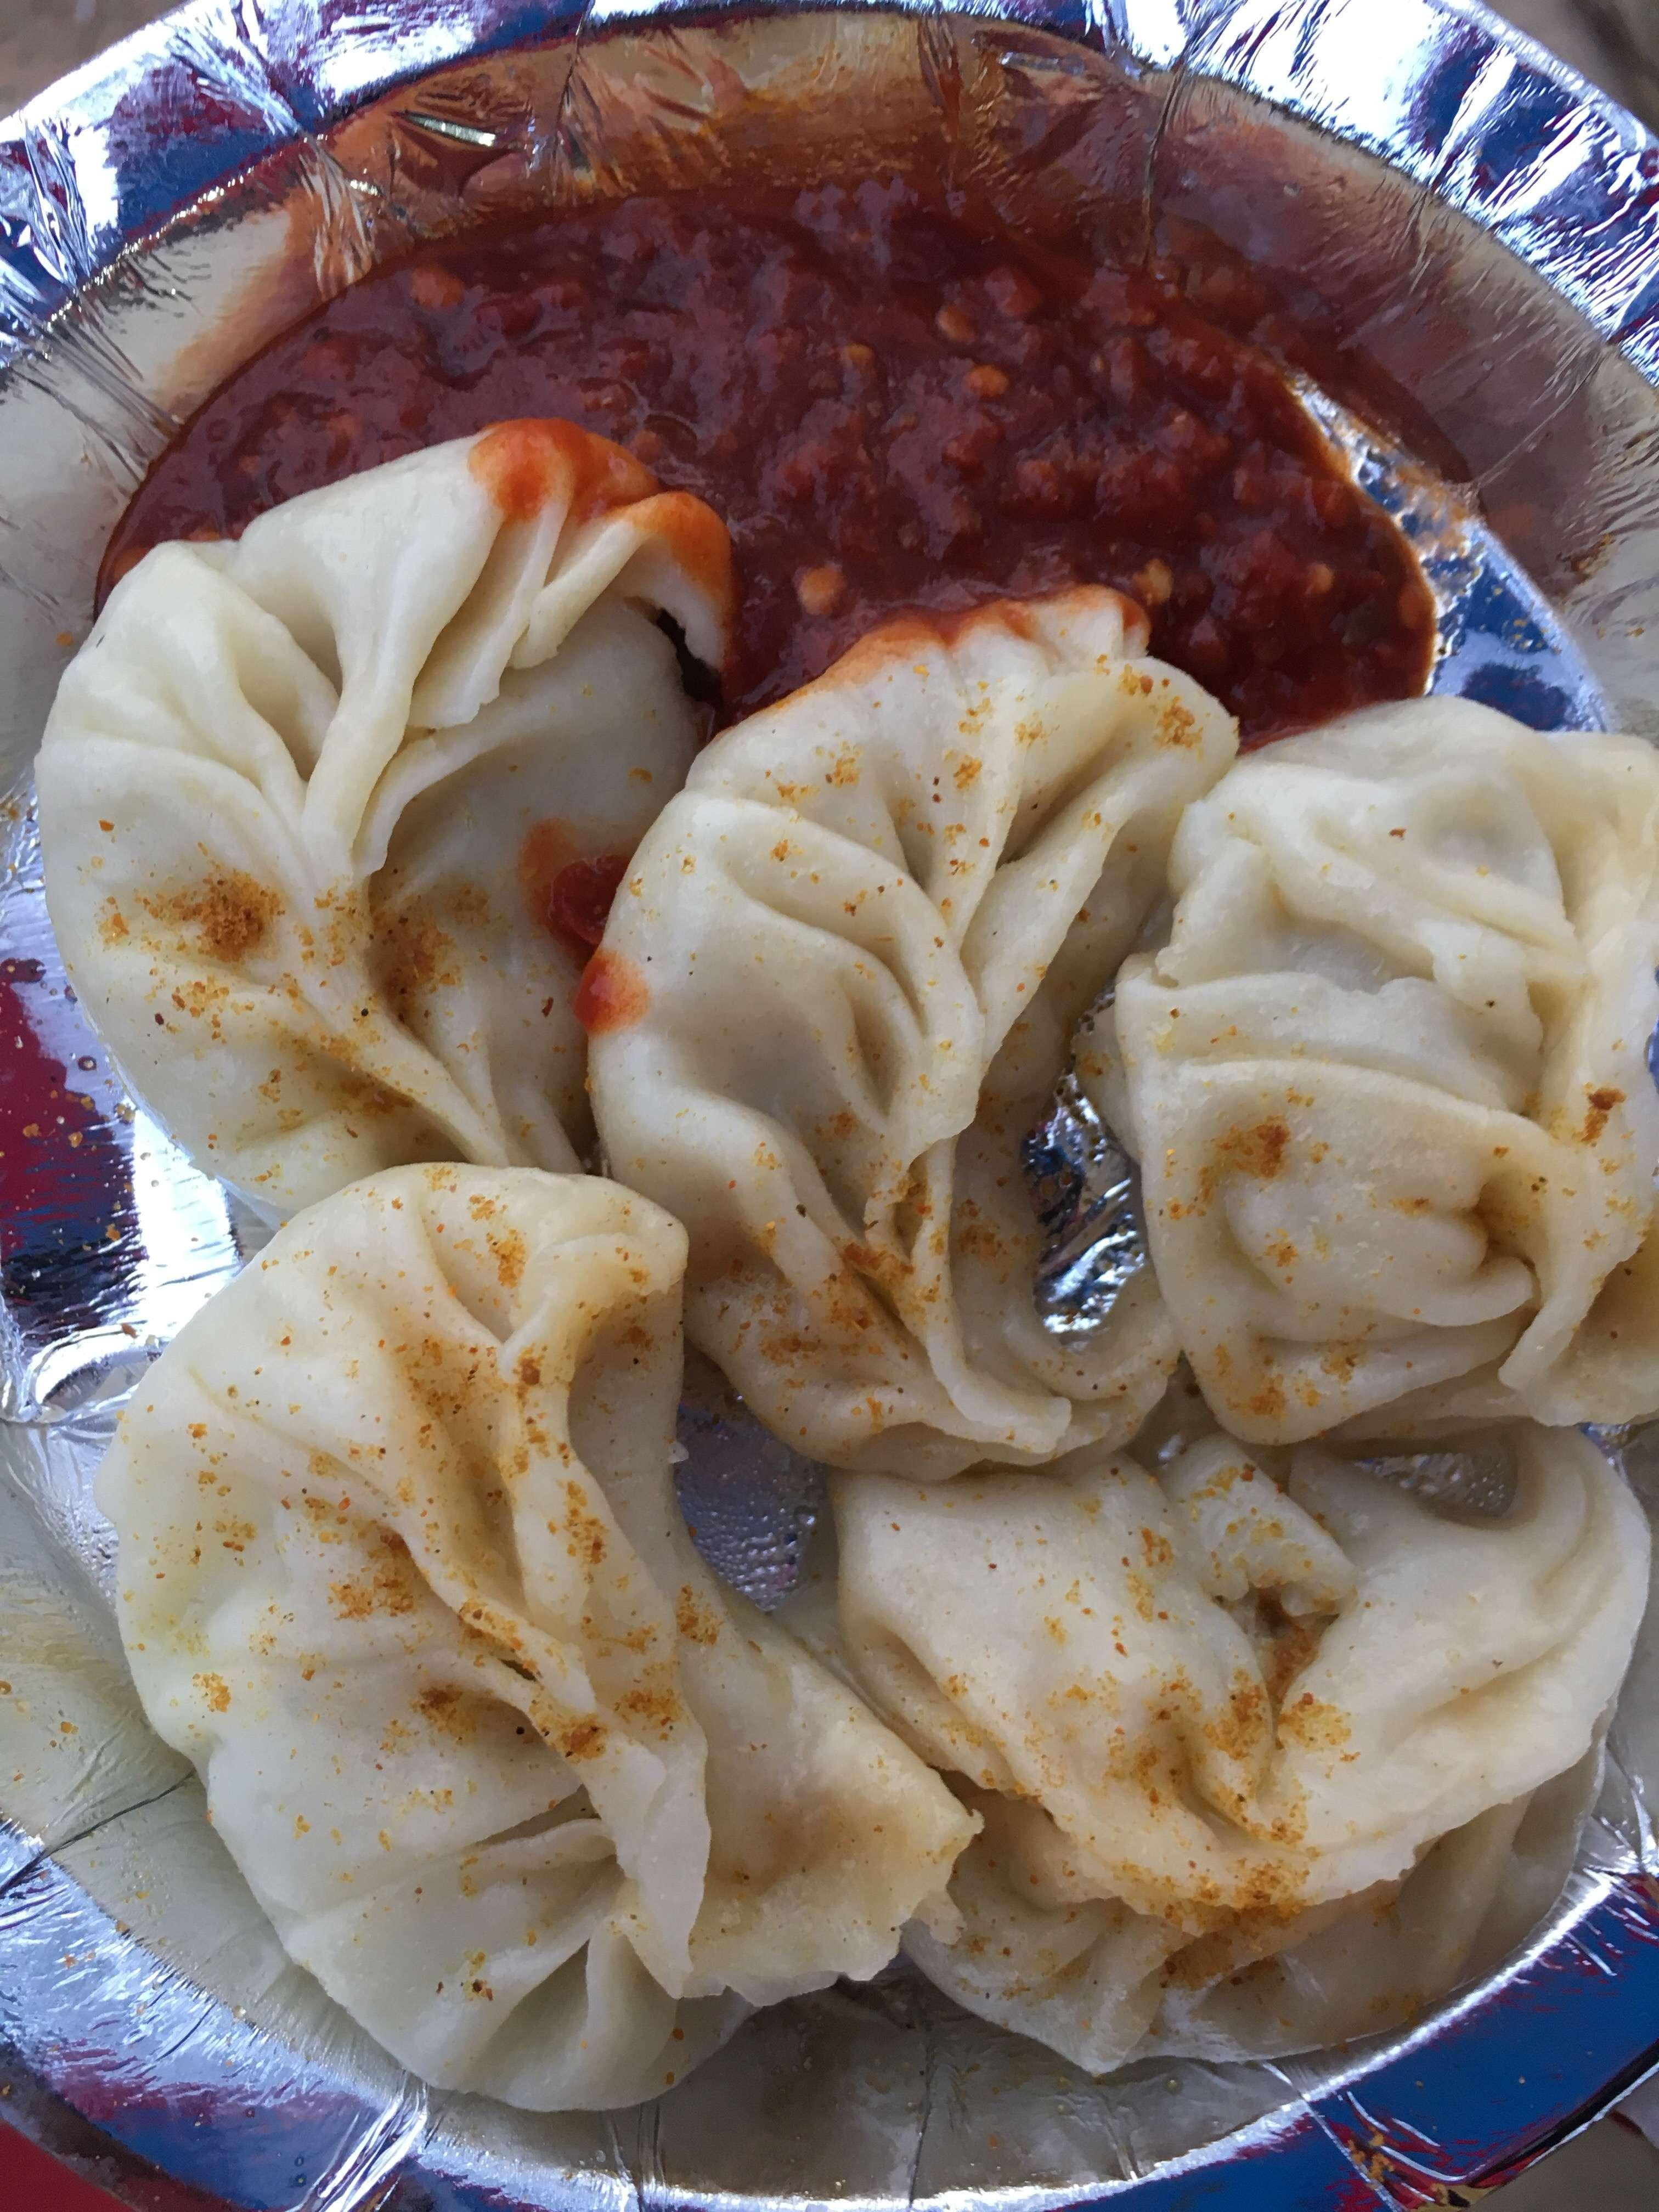momos: (99, 1162, 972, 2107), (579, 587, 1236, 1482), (35, 420, 734, 1214), (833, 1426, 1647, 1932), (1157, 700, 1656, 1439)
